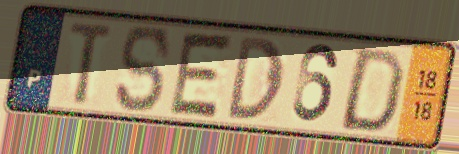6: (290, 41, 341, 130)
D: (335, 45, 409, 135), (225, 34, 286, 123)
E: (164, 29, 237, 122)
S: (113, 22, 174, 115)
T: (67, 19, 116, 108)
